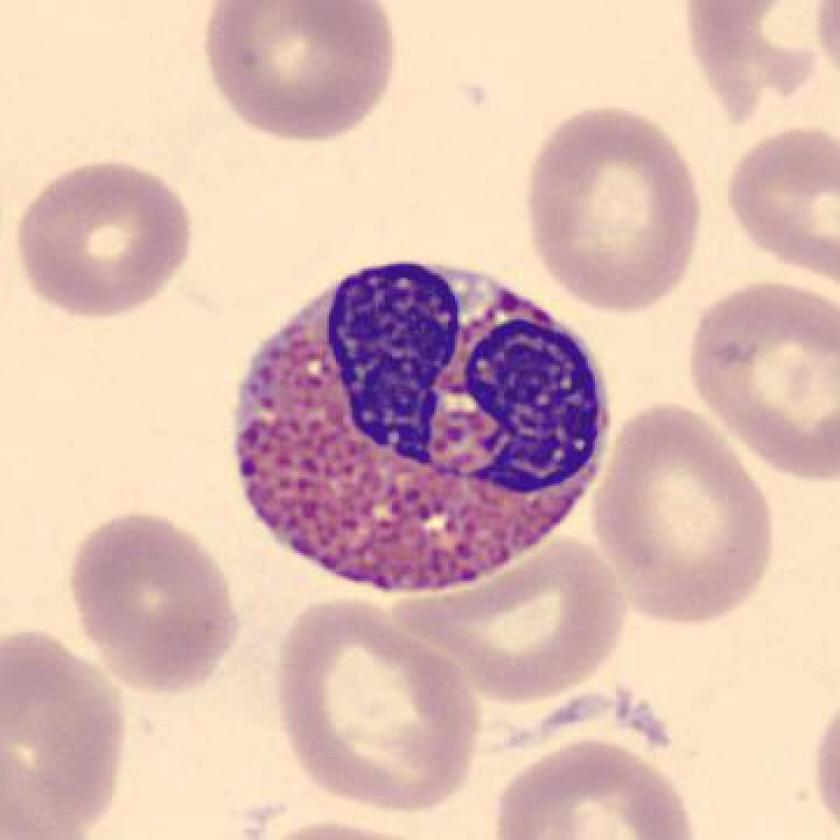eosinophil: (223, 246, 622, 605)
